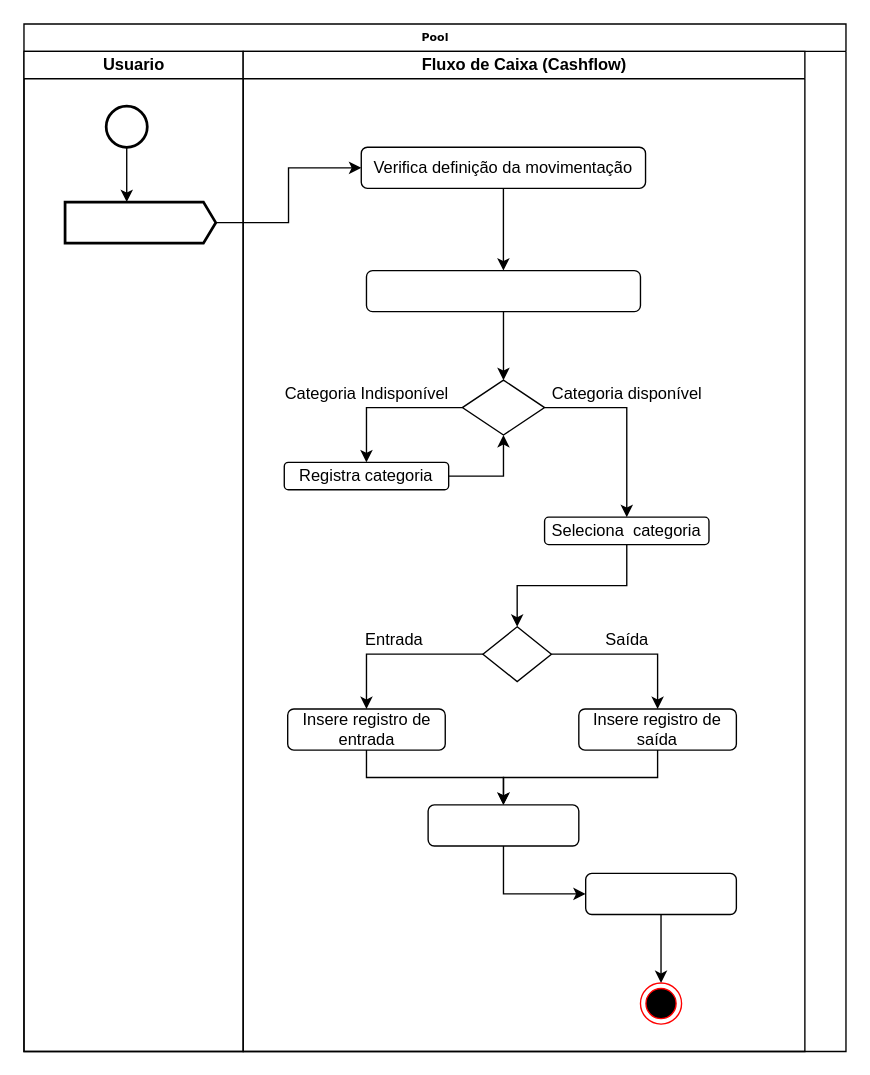
Some shapes in this 870 by 1075 pixel diagram are drawn without their labels. Here are the shapes that lost their labels. From the top down, the centre of each, then its label:
pixel 139 222: Possui movimento
pixel 502 290: Verifica categoria da movimentação
pixel 503 825: Efetua balanço
pixel 660 893: Atualiza saldo
